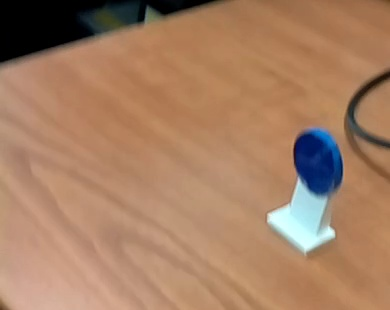circle: (249, 119, 360, 261)
